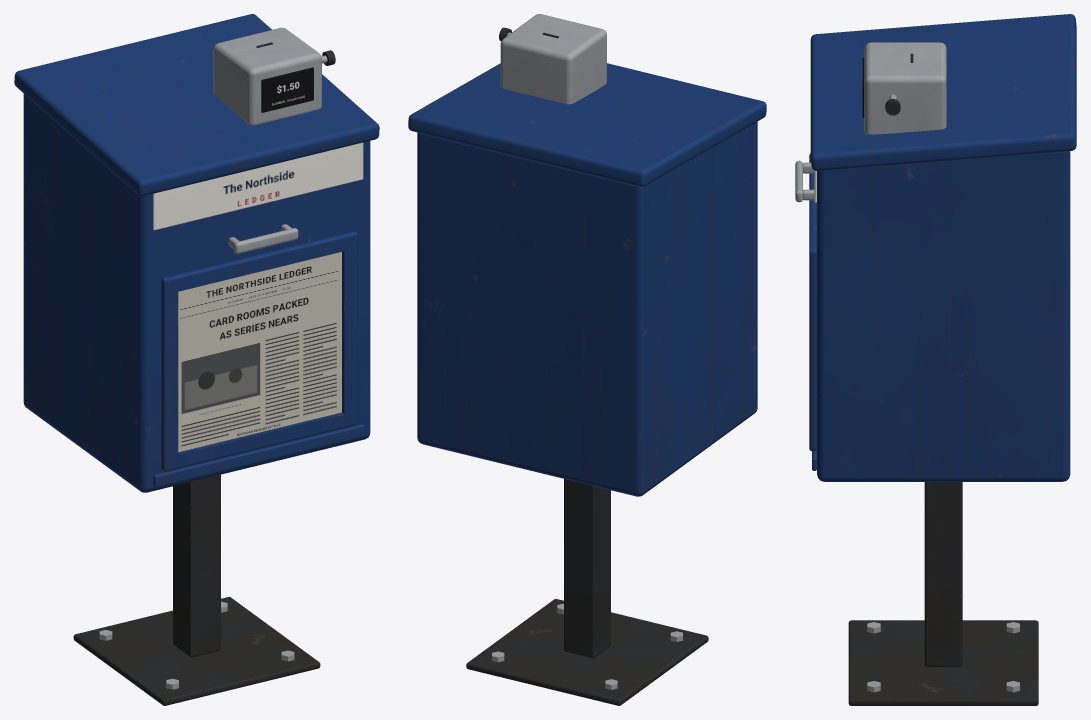
The model's file is SM_Newsbox.glb.
3 views of the same model, side by side, from view 1: azimuth 30°, elevation 25°; view 2: azimuth 150°, elevation 25°; view 3: azimuth 270°, elevation 25° (orthographic). The views are drawn at different scales.
Visible parts, largest first — view 1: SM_Newsbox; view 2: SM_Newsbox; view 3: SM_Newsbox.
Part boxes in pixels (x1,y1,x2,y2): SM_Newsbox: [14, 14, 379, 705]; SM_Newsbox: [408, 14, 766, 705]; SM_Newsbox: [795, 14, 1076, 705].
Bounding box in the file's own units: 0.46 × 1.11 × 0.4438.
Materials: 6 (6 with a texture image).
